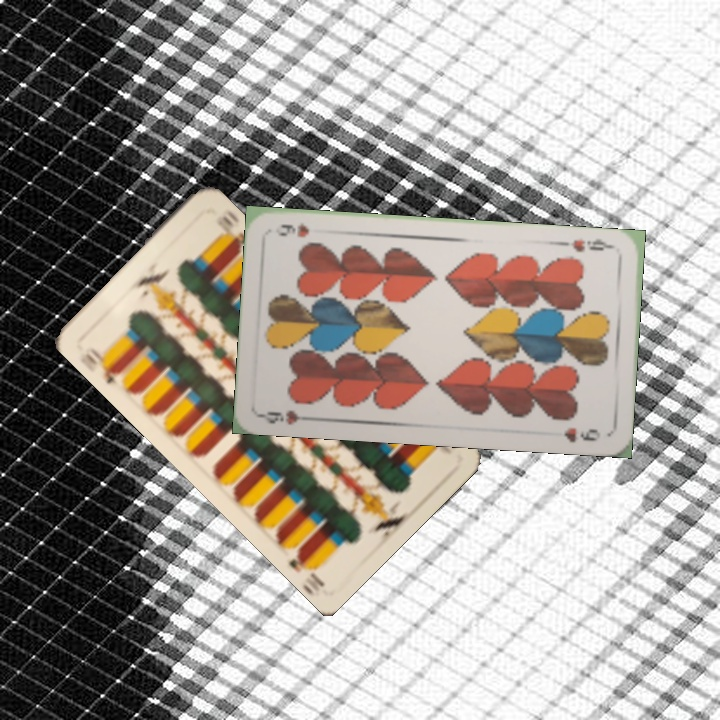E10: (81, 343, 125, 387)
H9: (258, 406, 317, 428), (559, 234, 617, 254)
